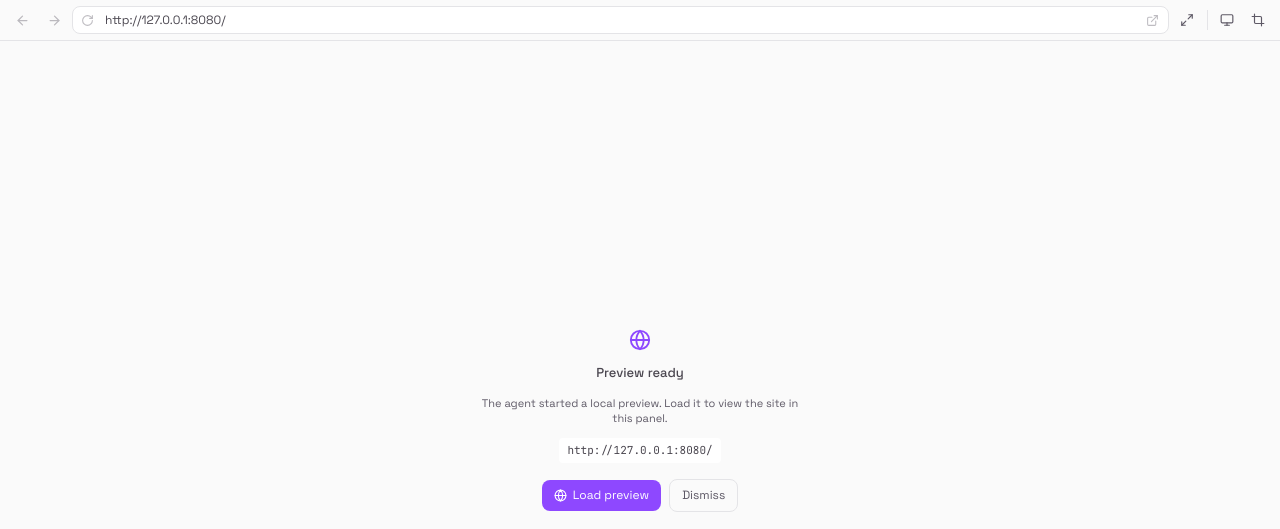
Scenario: WebPreviewPanel › dismisses a pending feed without navigating
The image size is (1280, 529).
Click the button "Dismiss": (704, 495) x1=669 y1=479 x2=738 y2=512
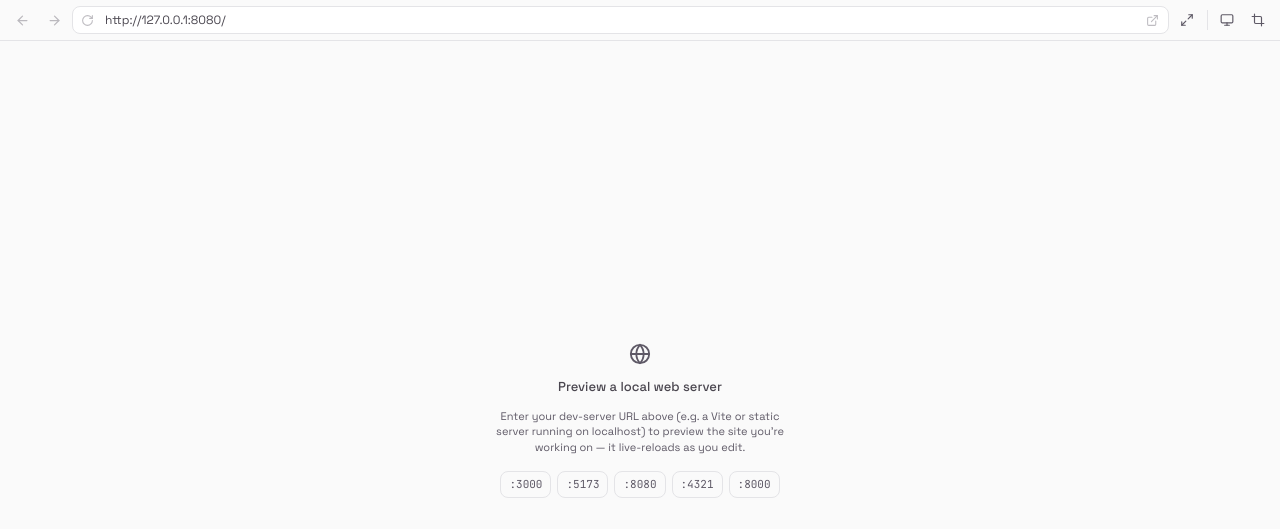
Expected: the text "Preview ready" is gone
Expected: the text "Preview a local web server" is shown, x1=558 y1=377 x2=722 y2=397
